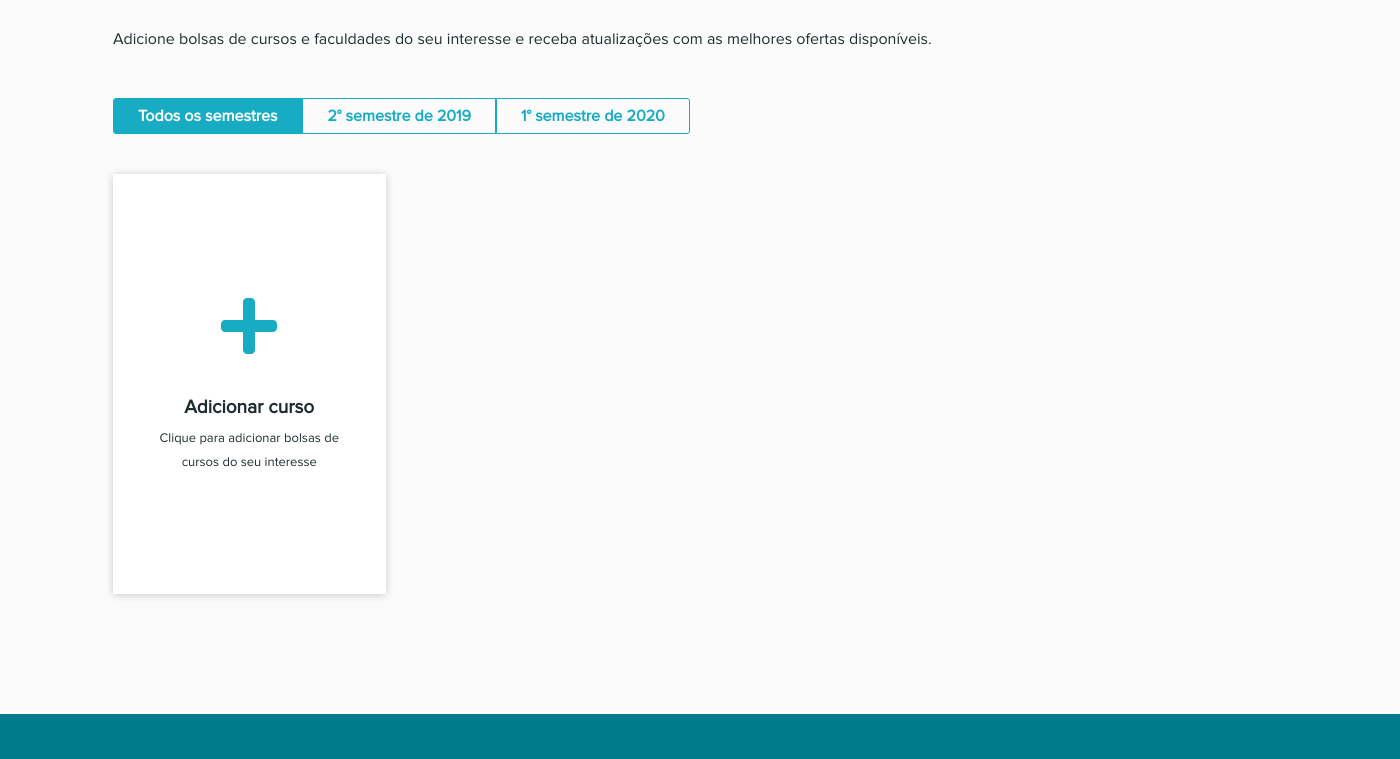
Scenario: testes funcionais › certificando que cursos indisponíveis serão evidenciados como tal
The image size is (1400, 759).
(page scrolled)
Click the element with test id "card-add" at (250, 384), box left=113, top=174, right=386, bottom=594
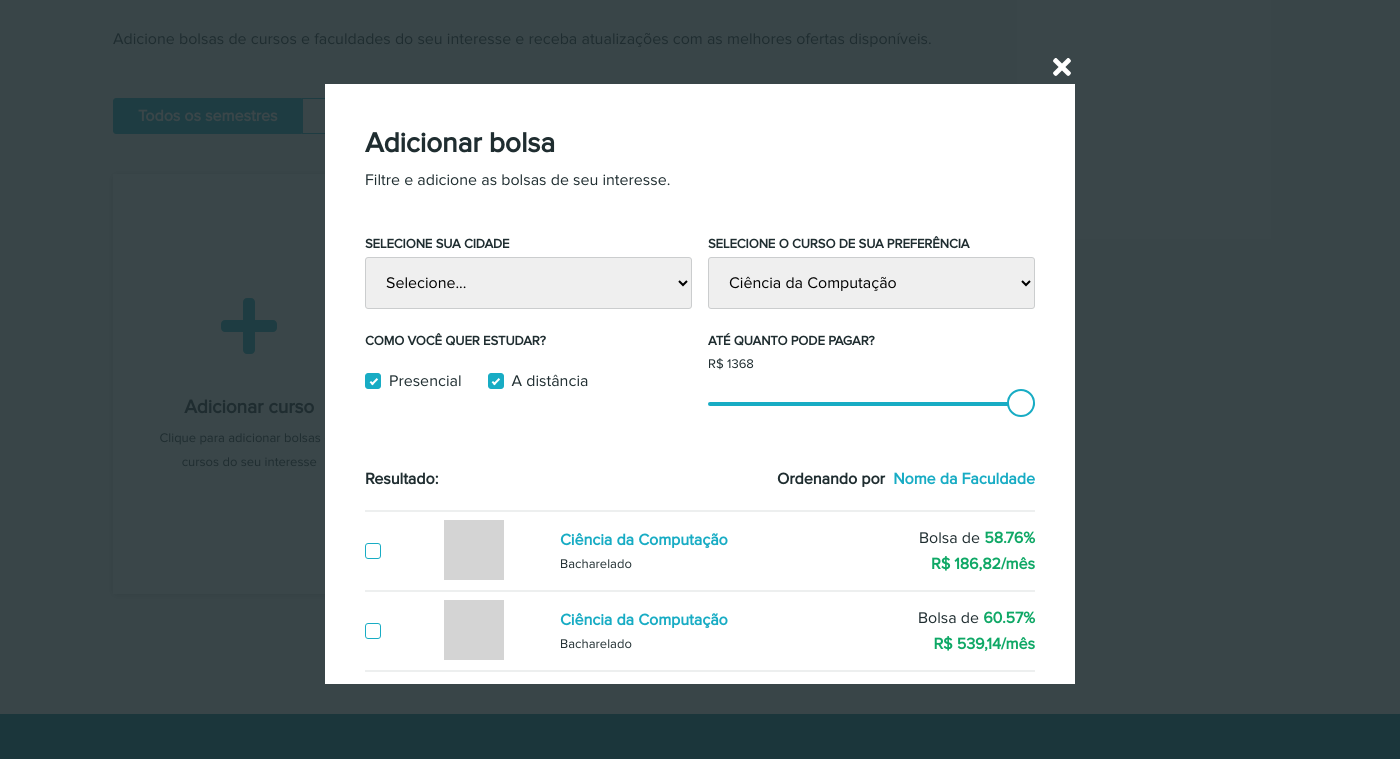
Select "Gastronomia" in the dropdown with test id "select-course" at (872, 283), box left=708, top=257, right=1035, bottom=309
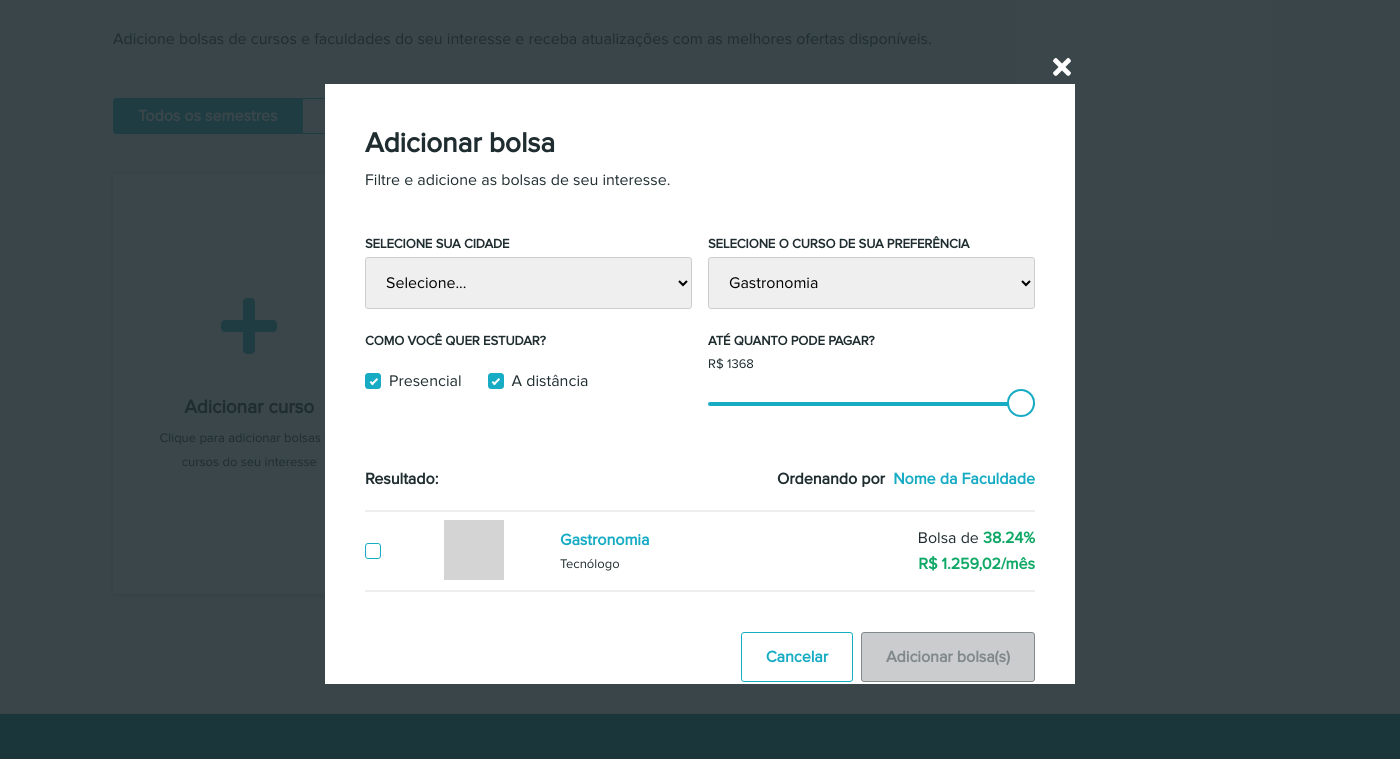
Click the checkbox with test id "result-check" at (373, 551), box left=365, top=543, right=381, bottom=559
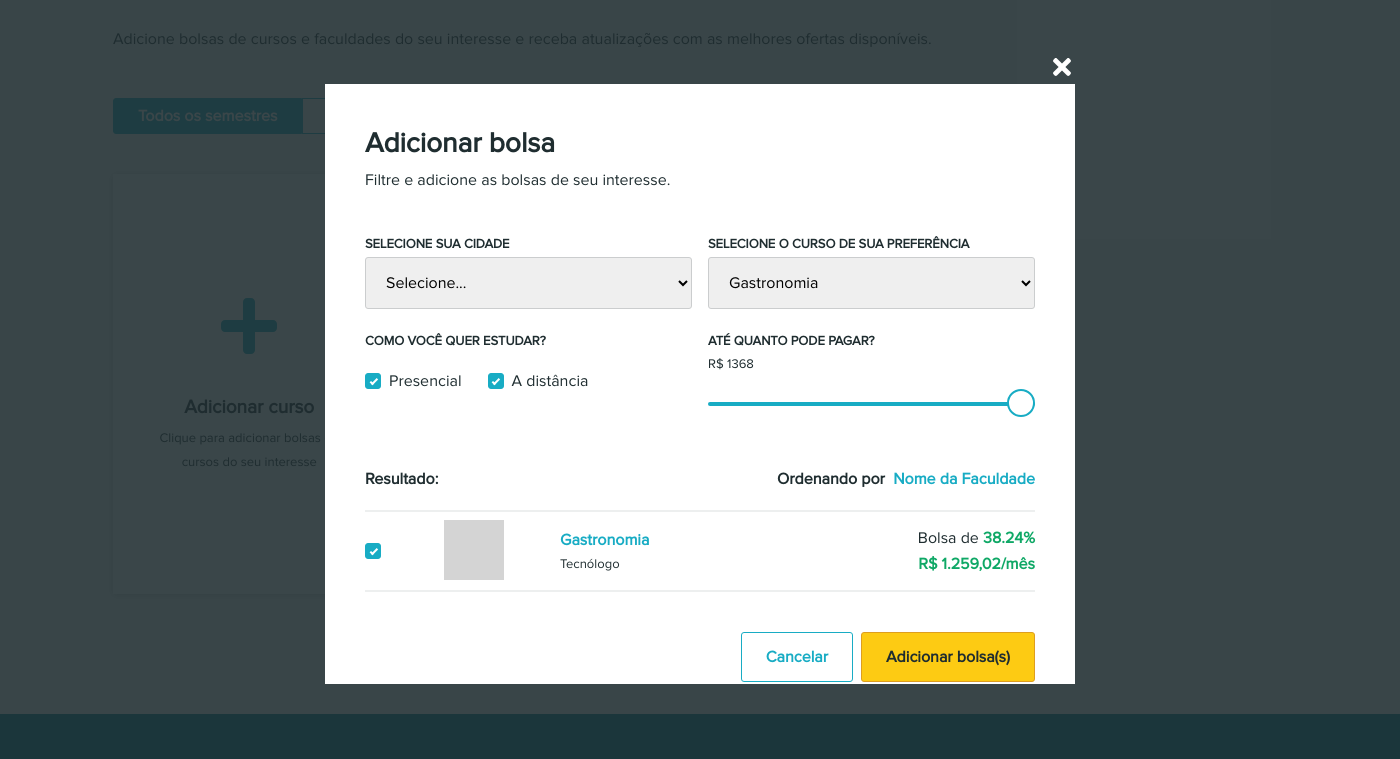
Click the button with test id "button-apply" at (948, 657), box left=861, top=632, right=1035, bottom=682
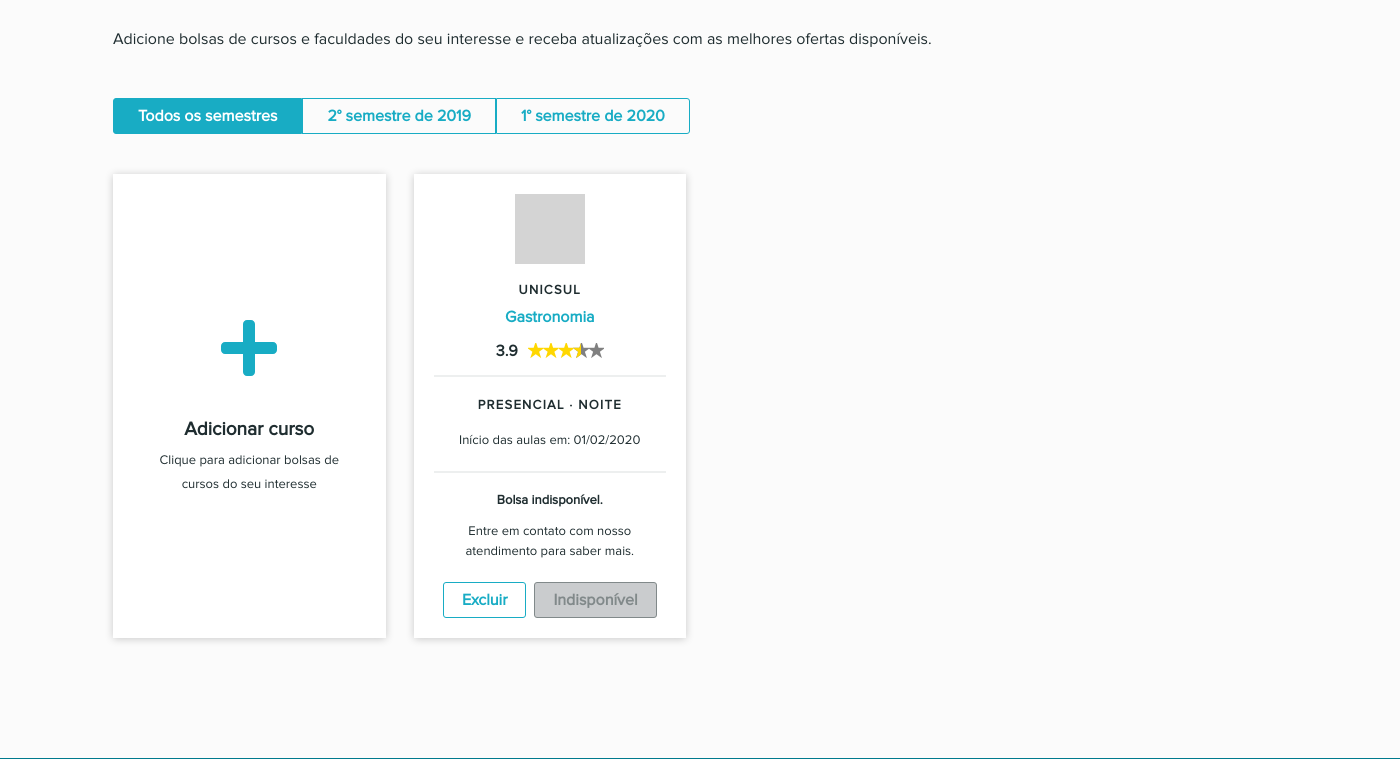
Now the text with class "course" reads "Gastronomia", box left=505, top=309, right=594, bottom=325
Now the button "Excluir" is disabled, box left=443, top=582, right=527, bottom=618
Now the button "Indisponível" is shown, box left=534, top=582, right=657, bottom=618
